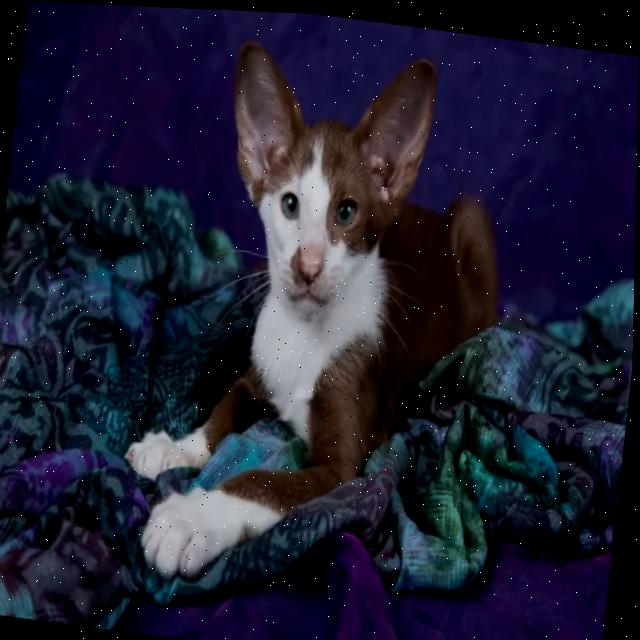Oriental: (113, 16, 527, 620)
